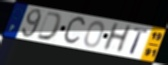9: (20, 8, 43, 39)
C: (61, 15, 88, 47)
D: (34, 11, 64, 42)
H: (101, 22, 134, 53)
O: (83, 20, 105, 49)
T: (129, 27, 150, 56)
